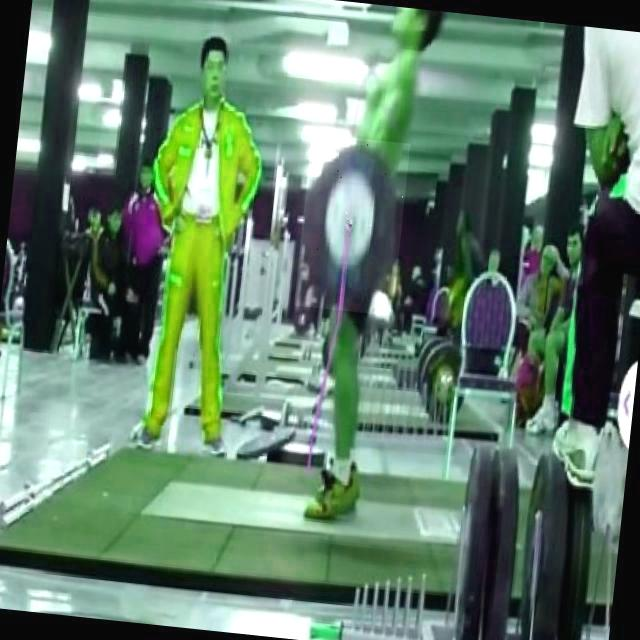barbell: (295, 135, 410, 317)
